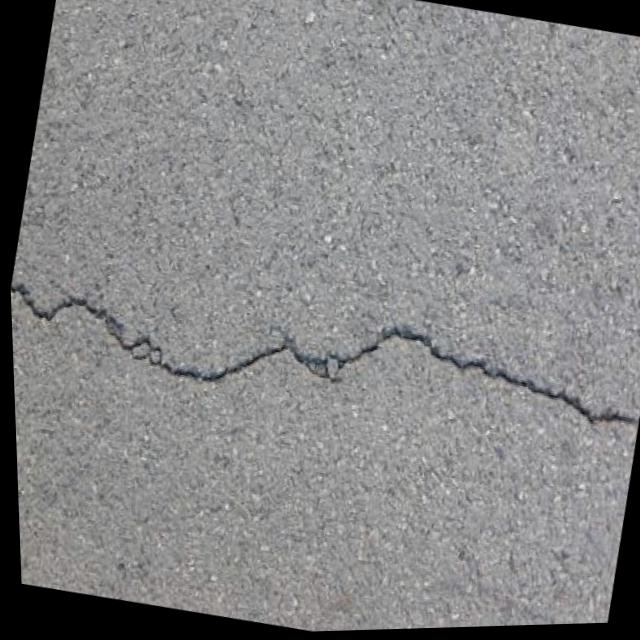Crack: (7, 229, 640, 482)
